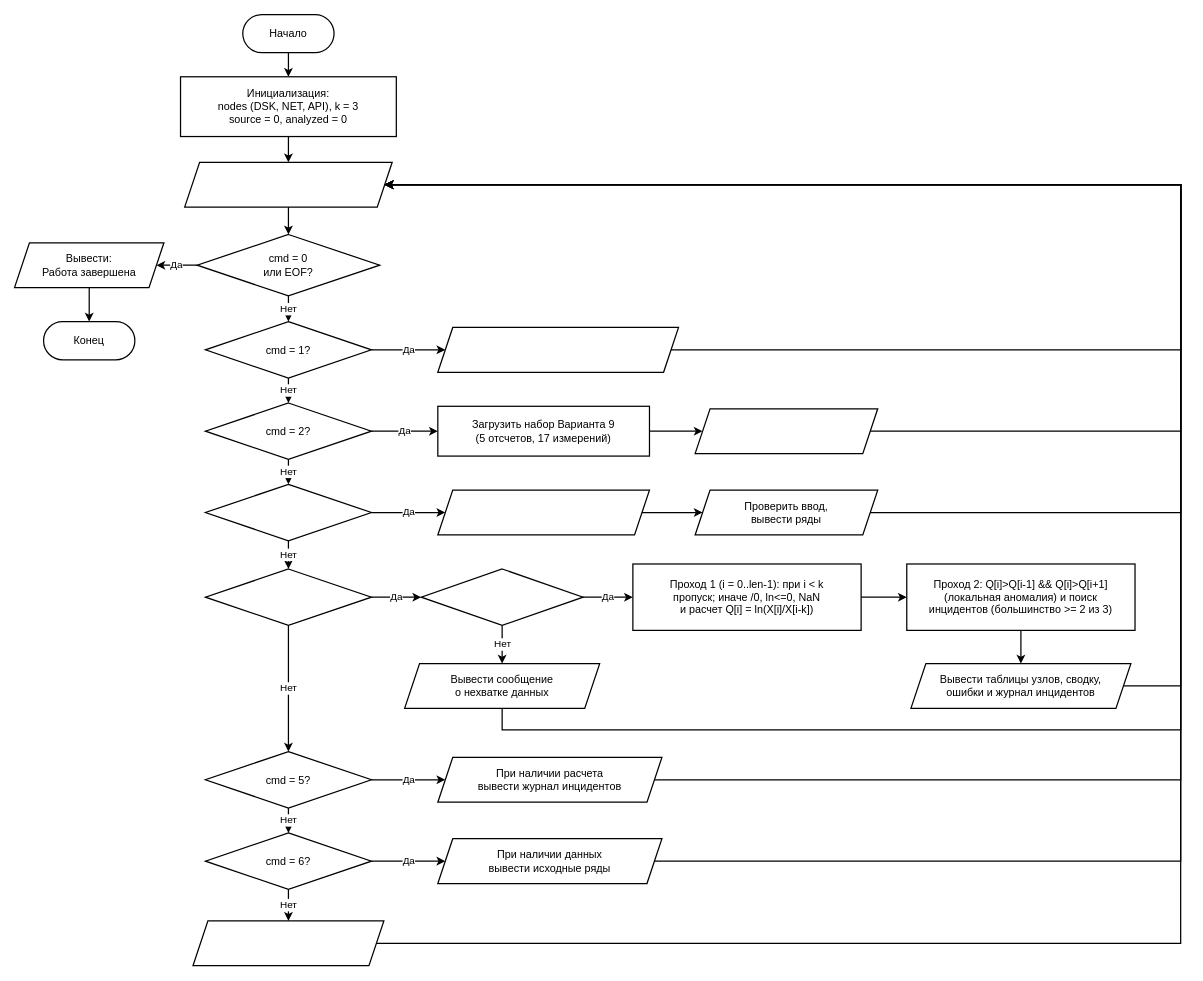
The diagram is 1203 pixels wide and 981 high, and some of its shapes have lost their labels. Here are the shapes that lost their labels. From the top down, the centre of each, then its label:
(288,184): Вывести панель и меню, ввести команду cmd
(558,349): Ввести шаг k, проверить 1 <= k < 100
(786,431): Вывести исходные ряды телеметрии
(288,512): cmd = 3?
(543,512): Ввести n и ряды DSK, NET, API
(288,597): cmd = 4?
(501,597): source != пусто?
(288,943): Вывести: Неизвестная команда
